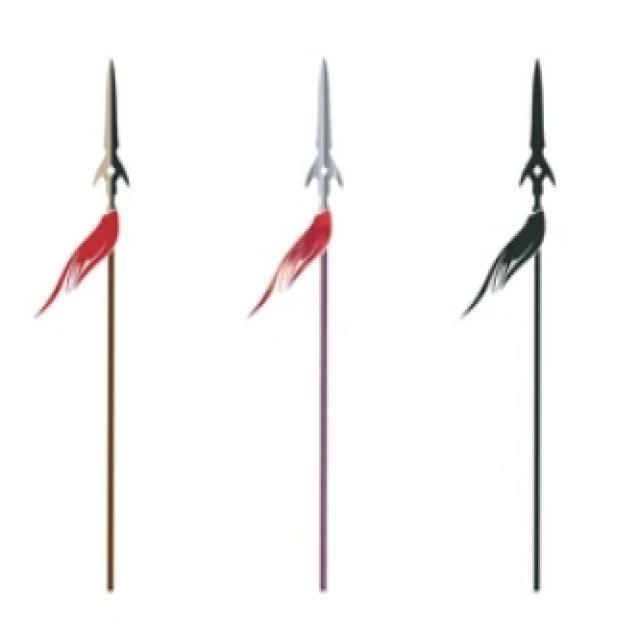spear: (227, 46, 395, 612), (454, 40, 612, 610), (30, 30, 166, 610)
